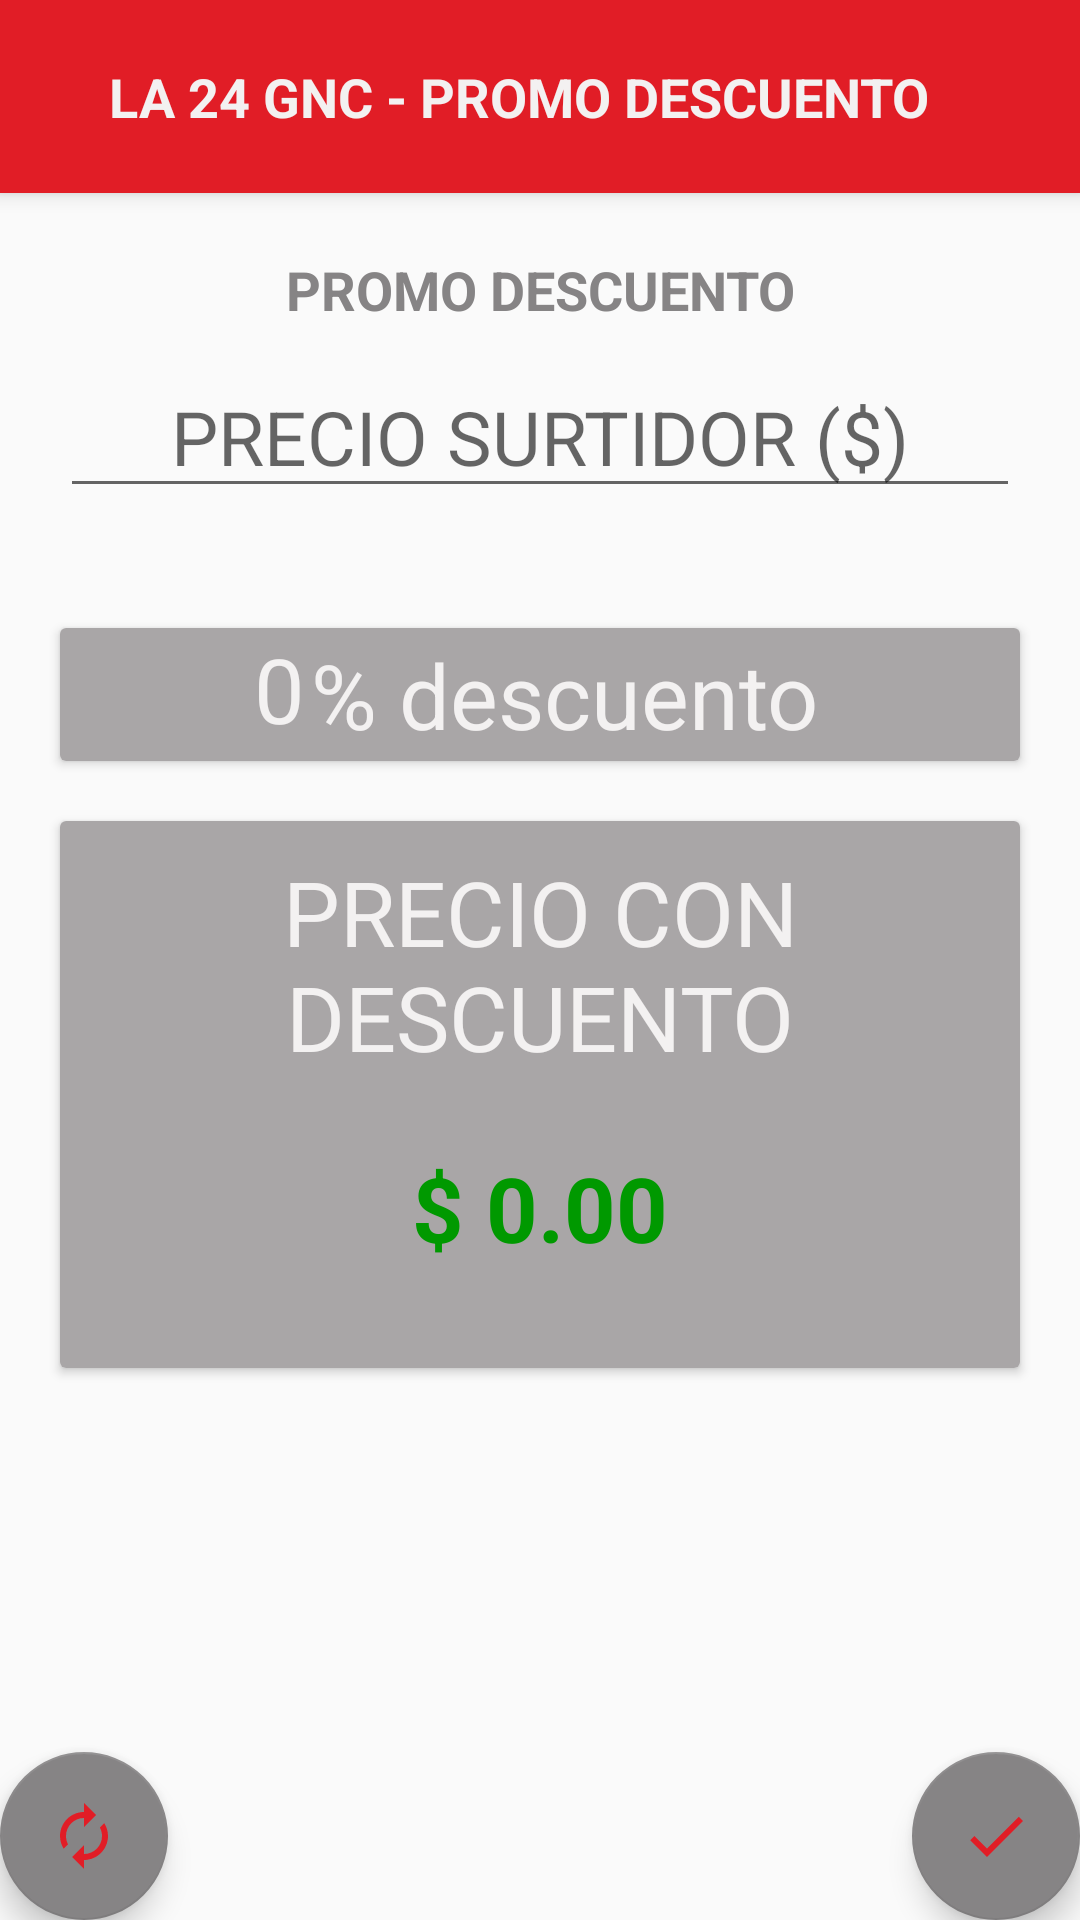

Where to tap for icons on this 1080px×1920px app screen, as [x,y]:
autorenew: [84,1836]
done: [996,1836]
